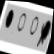correct: (2, 6, 16, 30)
not correct: (34, 16, 52, 51)
